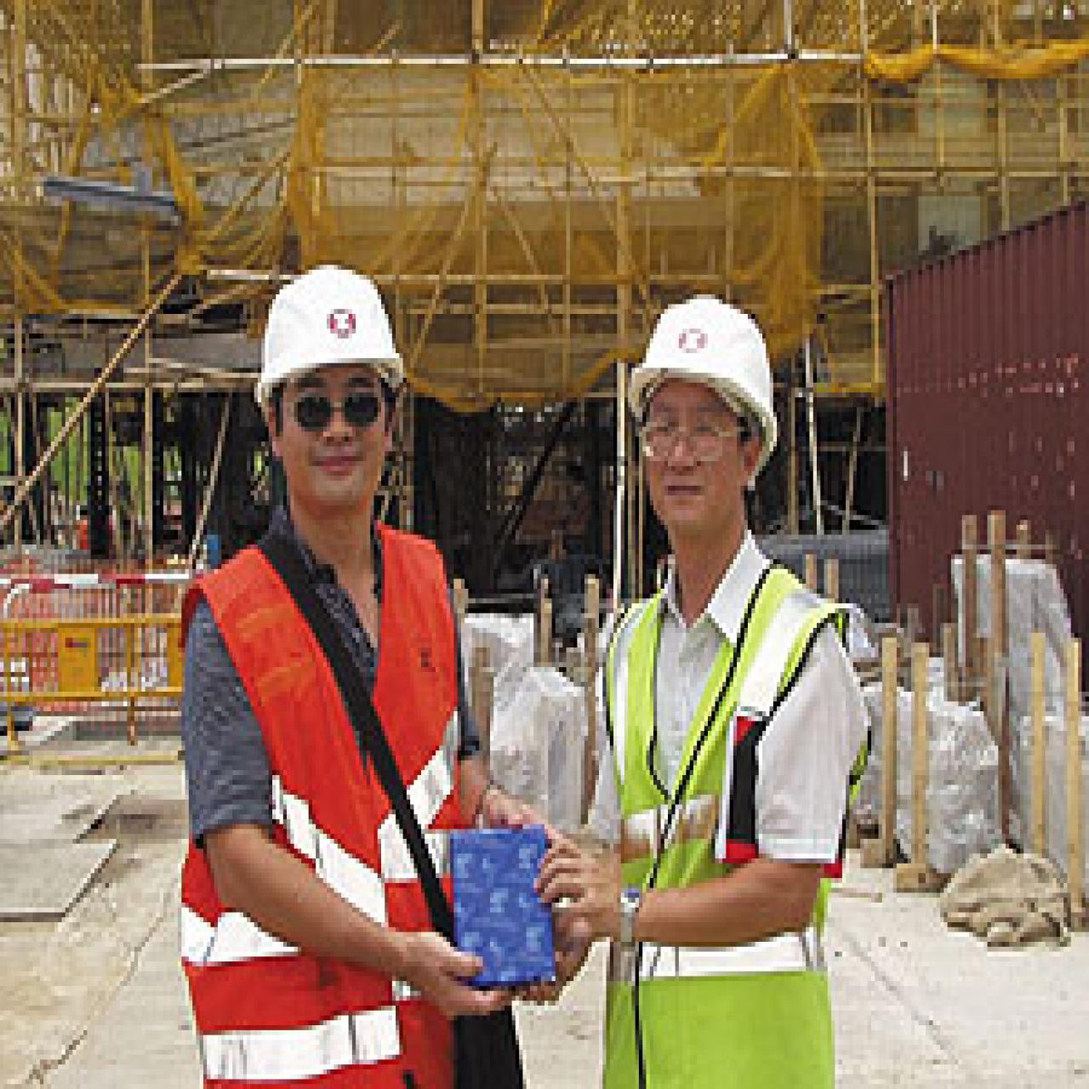Person: (148, 237, 559, 1089), (541, 255, 883, 1089)
Safety_Vest: (177, 524, 489, 1083), (588, 561, 857, 1088)
